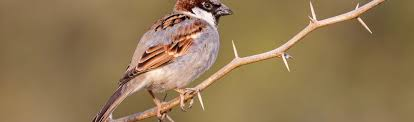hsparrow: (88, 2, 262, 122)
